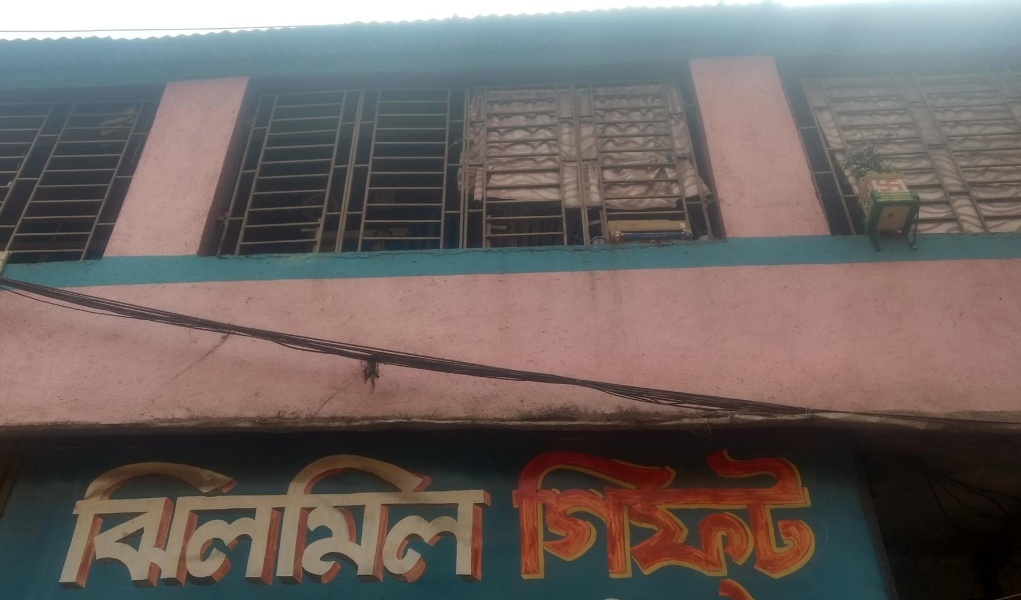text: (513, 440, 528, 600), (529, 440, 544, 600), (545, 440, 560, 600), (561, 440, 576, 600), (577, 440, 592, 600), (593, 440, 608, 600), (609, 440, 624, 600), (625, 440, 640, 600), (641, 440, 656, 600), (657, 440, 672, 600), (673, 440, 688, 600), (689, 440, 704, 600), (705, 440, 720, 600), (721, 440, 736, 600), (737, 440, 752, 600), (753, 440, 768, 600), (769, 440, 784, 600), (785, 440, 800, 600), (801, 440, 816, 600), (817, 440, 832, 600), (81, 446, 96, 591), (97, 446, 112, 591), (113, 446, 128, 591), (129, 446, 144, 591), (145, 446, 160, 591), (161, 446, 176, 591), (177, 446, 192, 591), (193, 446, 208, 591), (209, 446, 224, 591), (225, 446, 240, 591), (241, 446, 256, 591), (257, 446, 272, 591), (273, 446, 288, 591), (289, 446, 304, 591), (305, 446, 320, 591), (321, 446, 336, 591), (337, 446, 352, 591), (353, 446, 368, 591), (369, 446, 384, 591), (385, 446, 400, 591), (401, 446, 416, 591), (417, 446, 432, 591), (433, 446, 448, 591), (449, 446, 464, 591), (465, 446, 480, 591), (481, 446, 496, 591), (72, 446, 80, 591), (497, 446, 504, 591), (506, 440, 512, 600), (865, 170, 880, 226), (881, 170, 896, 226), (897, 170, 912, 226), (855, 170, 864, 226), (913, 170, 919, 226), (833, 440, 835, 600)
